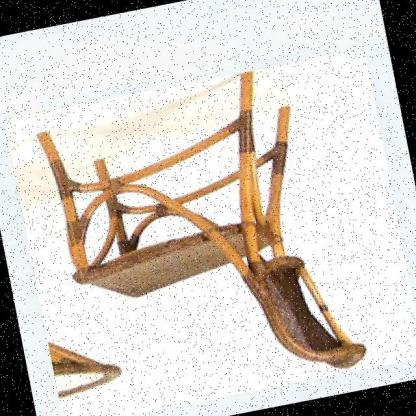Chair: (18, 36, 384, 416)
